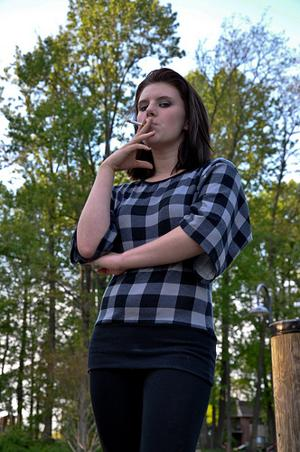person: (70, 70, 250, 452)
